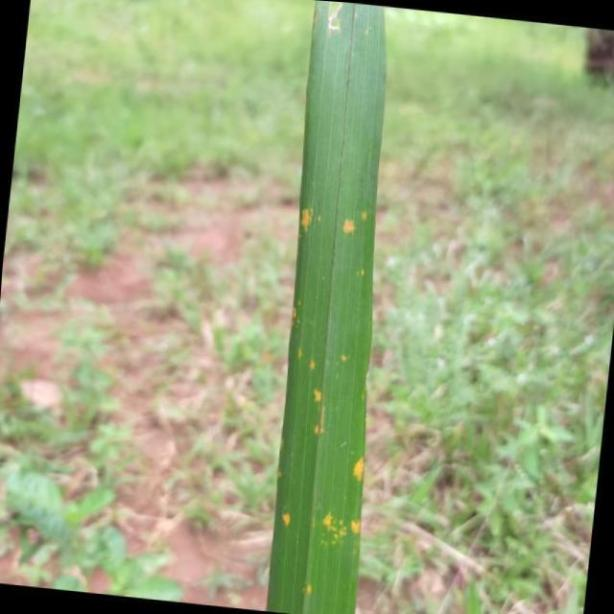Kalium: (267, 0, 387, 614)
